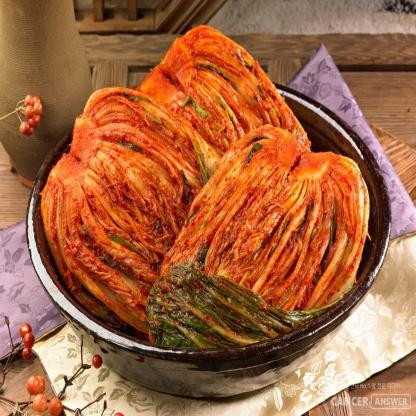kimchi: (148, 119, 380, 369), (32, 77, 238, 341), (118, 20, 322, 193)
